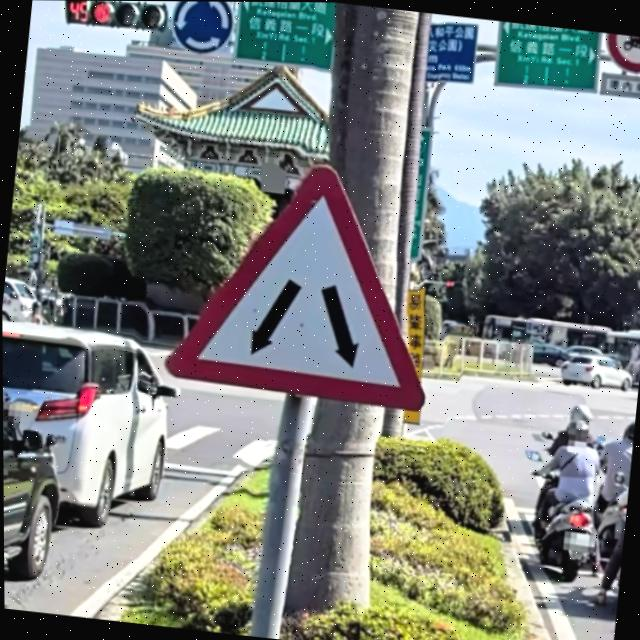diverge: (163, 163, 426, 412)
